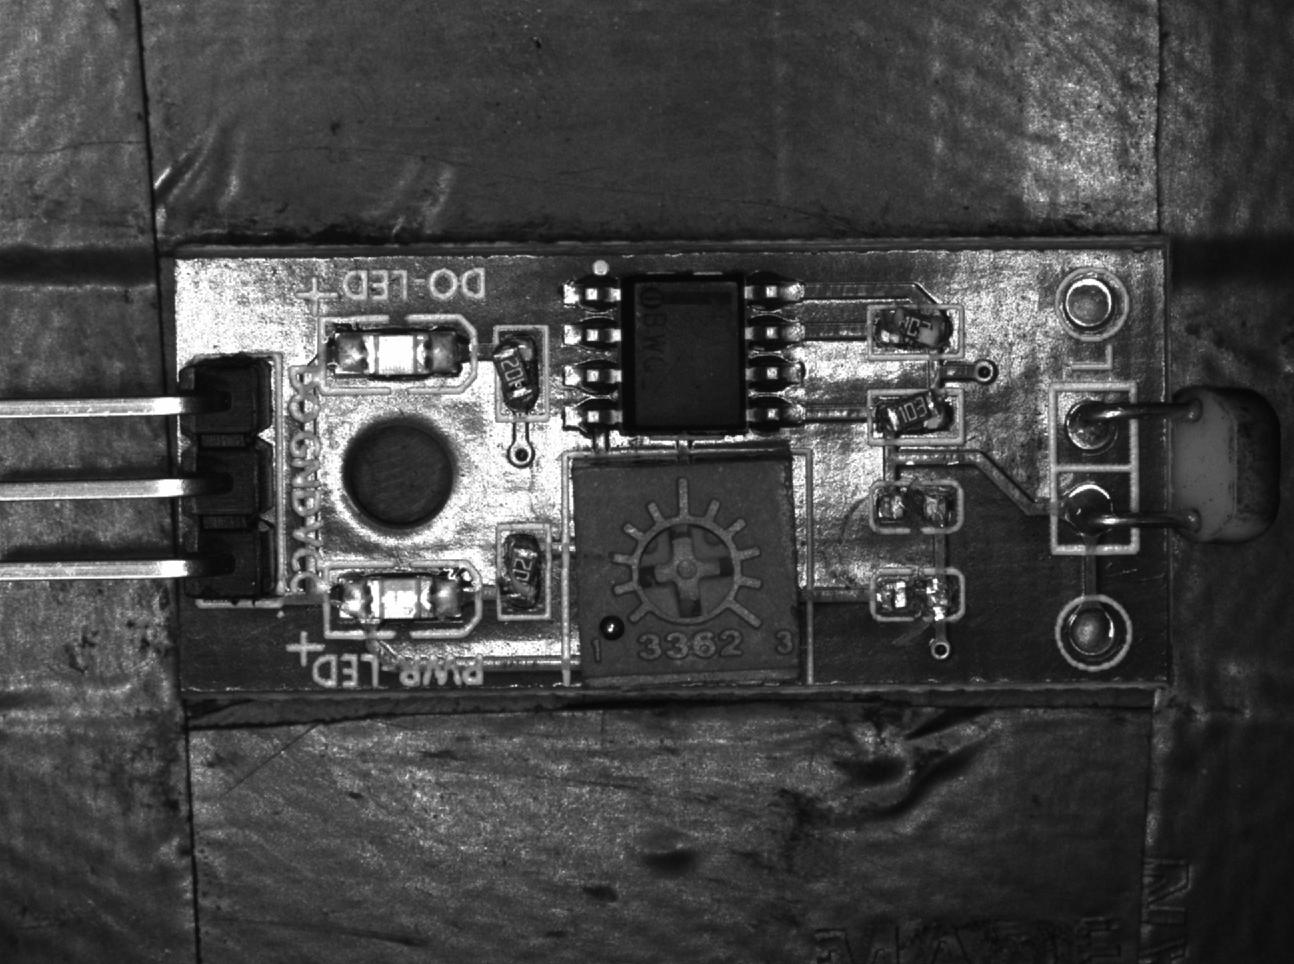lifted: (868, 304, 965, 361), (495, 525, 551, 619), (492, 327, 544, 424), (871, 389, 962, 441)
miss: (872, 480, 961, 532), (871, 571, 961, 621)
